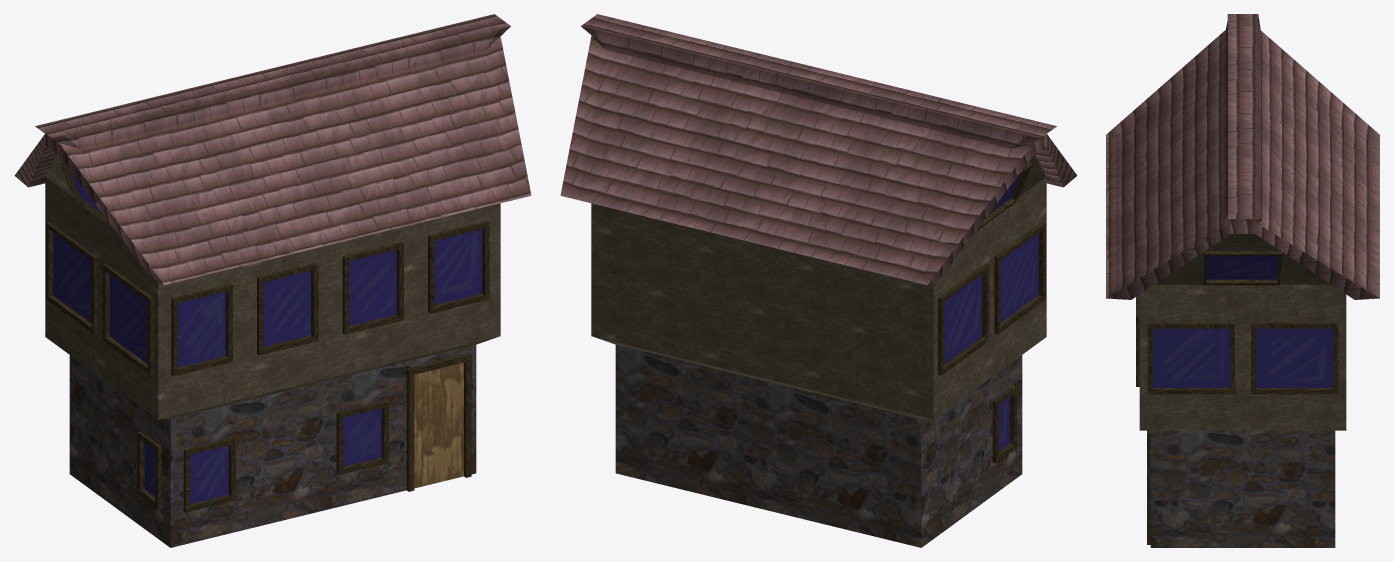
File: House1.fbx
3 renders of one model, left to right at view 1: azimuth 30°, elevation 25°; view 2: azimuth 150°, elevation 25°; view 3: azimuth 270°, elevation 25°, orthographic. The views are drawn at different scales.
Visible parts, largest first — view 1: Cube.001; view 2: Cube.001; view 3: Cube.001.
Boxes of the visible parts, x1,y1,x2,y2 form: Cube.001: (14,14,531,547); Cube.001: (560,14,1077,547); Cube.001: (1106,14,1379,547).
Size of the model in its own units: 2105 by 1739 by 1188.
5 materials, 5 textured.
